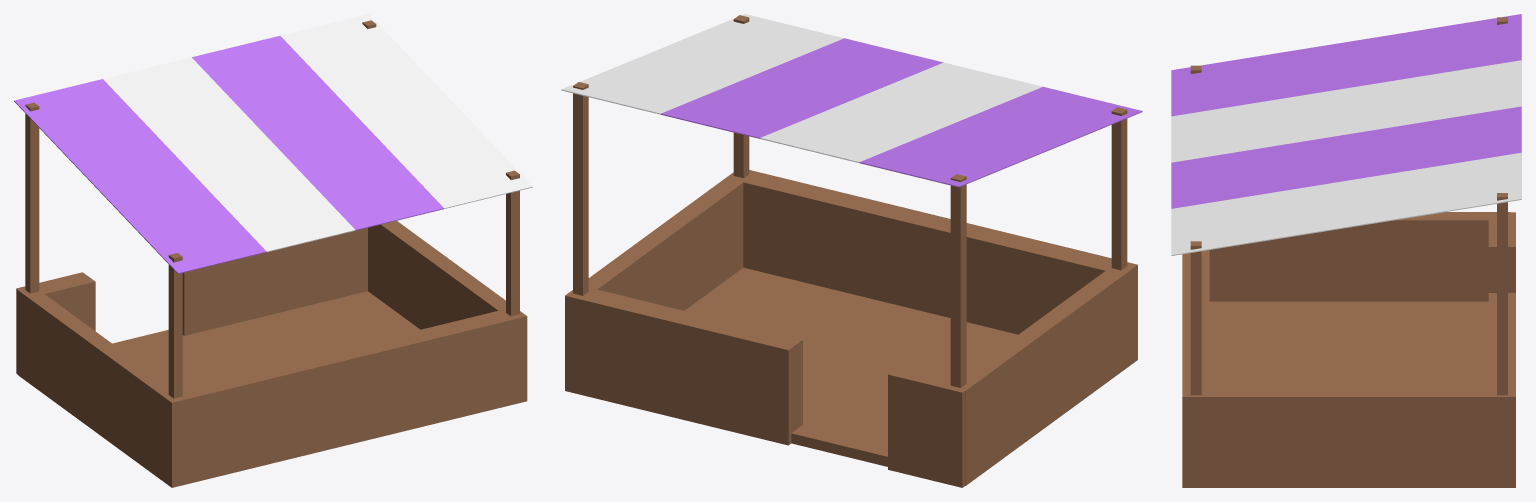
Rendered from Trail_Shop.glb.
3 views of the same model, side by side, from view 1: azimuth 30°, elevation 25°; view 2: azimuth 150°, elevation 25°; view 3: azimuth 270°, elevation 25° (orthographic). The views are drawn at different scales.
Visible parts, largest first — view 1: Cube copy copy copy copy (×3), Cube copy copy copy copy copy copy (×2), Cube copy copy copy copy copy (×2), Cube copy copy copy copy copy copy copy, Cube, Cube copy, Cube copy copy, Cube copy copy copy (×2); view 2: Cube copy copy copy copy (×4), Cube, Cube copy copy copy copy copy copy (×2), Cube copy, Cube copy copy copy copy copy (×2), Cube copy copy copy copy copy copy copy, Cube copy copy, Cube copy copy copy (×2); view 3: Cube copy copy copy copy copy copy (×2), Cube copy copy, Cube, Cube copy, Cube copy copy copy copy copy copy copy, Cube copy copy copy copy copy, Cube copy copy copy copy (×3), Cube copy copy copy (×2).
Boxes of the visible parts, <box> form: Cube copy copy copy copy (×3): <box>160,228,527,486</box>; Cube copy copy copy copy copy copy (×2): <box>14,36,444,273</box>; Cube copy copy copy copy copy (×2): <box>25,57,355,293</box>; Cube copy copy copy copy copy copy copy: <box>280,14,532,208</box>; Cube: <box>18,291,526,487</box>; Cube copy: <box>18,289,187,487</box>; Cube copy copy: <box>368,220,527,400</box>; Cube copy copy copy (×2): <box>16,170,519,374</box>; Cube copy copy copy copy (×4): <box>565,82,1127,445</box>; Cube: <box>684,267,1137,485</box>; Cube copy copy copy copy copy copy (×2): <box>660,38,1142,187</box>; Cube copy: <box>950,262,1137,484</box>; Cube copy copy copy copy copy (×2): <box>760,62,1042,387</box>; Cube copy copy copy copy copy copy copy: <box>561,14,843,114</box>; Cube copy copy: <box>588,170,757,310</box>; Cube copy copy copy (×2): <box>733,15,974,487</box>; Cube copy copy copy copy copy copy (×2): <box>1171,14,1521,208</box>; Cube copy copy: <box>1182,388,1510,487</box>; Cube: <box>1209,301,1488,388</box>; Cube copy: <box>1209,212,1510,301</box>; Cube copy copy copy copy copy copy copy: <box>1171,153,1521,255</box>; Cube copy copy copy copy copy: <box>1171,60,1521,162</box>; Cube copy copy copy copy (×3): <box>1182,193,1515,487</box>; Cube copy copy copy (×2): <box>1190,212,1515,395</box>.
Size of the model in its own units: 4.01 by 2.92 by 3.2.
